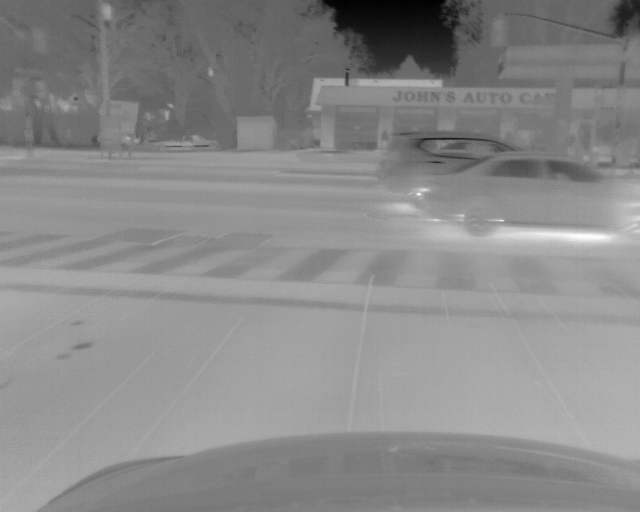car: (414, 150, 640, 243), (377, 128, 519, 195)
